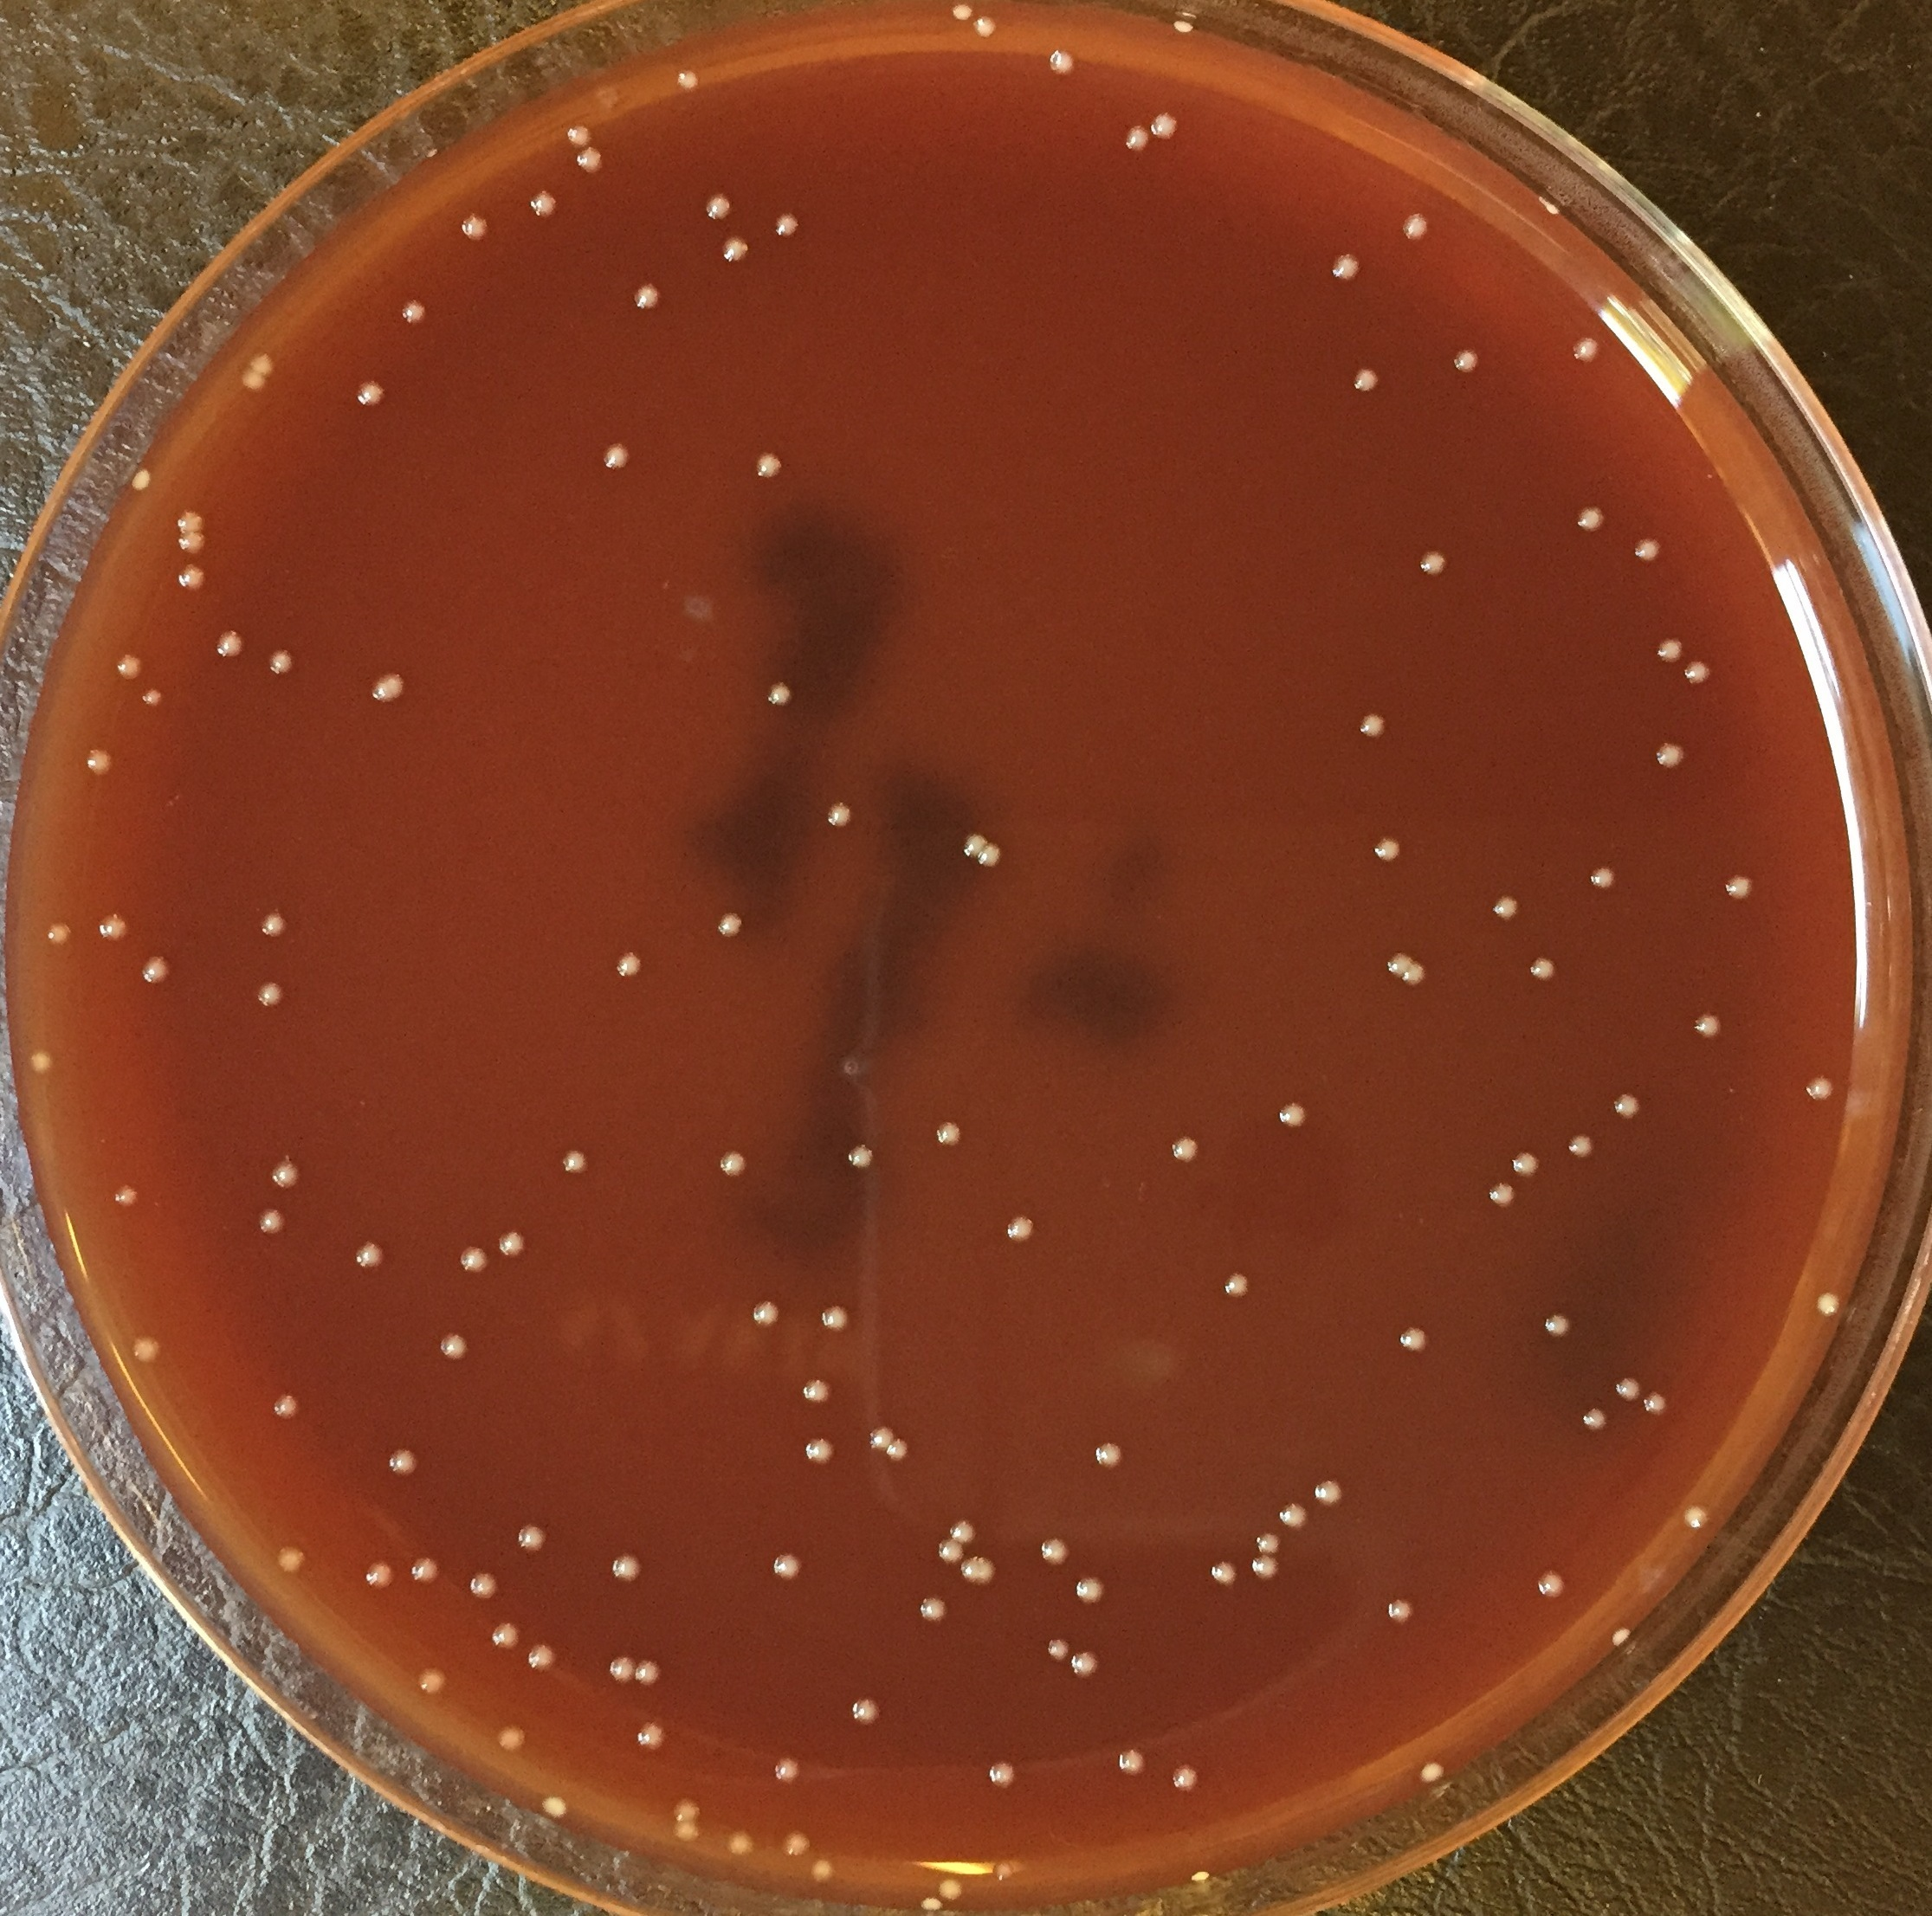sp06: (267, 1156, 307, 1198), (433, 1330, 477, 1369), (128, 1332, 170, 1370), (956, 1549, 998, 1588), (367, 667, 407, 705), (537, 1790, 576, 1828), (628, 1655, 665, 1695), (407, 1551, 444, 1588), (607, 1549, 644, 1586), (769, 1549, 805, 1586), (1651, 737, 1688, 774), (267, 646, 304, 683), (1393, 1323, 1432, 1358), (1414, 1760, 1456, 1791), (1611, 1090, 1648, 1125), (600, 439, 635, 475), (139, 953, 177, 986), (416, 1662, 451, 1697), (604, 1653, 639, 1688), (1067, 1648, 1102, 1683), (916, 1591, 951, 1626), (1483, 1177, 1518, 1212), (1565, 333, 1600, 368), (1678, 1498, 1714, 1532), (1525, 954, 1562, 988), (1330, 251, 1363, 288), (1348, 365, 1385, 398), (798, 1435, 835, 1469), (353, 1239, 388, 1272), (516, 1521, 549, 1556), (488, 1621, 523, 1655), (493, 1721, 528, 1755), (633, 1719, 667, 1755), (848, 1697, 883, 1730), (632, 281, 665, 316), (82, 747, 118, 781), (558, 1146, 591, 1181), (816, 1300, 851, 1333), (1091, 1441, 1127, 1474), (934, 1537, 970, 1569), (1167, 1763, 1204, 1795), (1274, 1098, 1311, 1130), (214, 628, 251, 660), (272, 1544, 305, 1577), (386, 1448, 419, 1481), (1248, 1551, 1281, 1584), (1576, 1404, 1609, 1437), (458, 211, 491, 244), (254, 1209, 290, 1240), (361, 1556, 397, 1588), (723, 1828, 758, 1860), (1207, 1556, 1242, 1588), (1535, 1567, 1567, 1602), (1574, 504, 1609, 535), (1046, 47, 1081, 79), (528, 189, 560, 225), (1074, 1577, 1111, 1607), (1539, 1311, 1576, 1340), (1681, 658, 1718, 688), (574, 140, 604, 177), (700, 191, 737, 221), (751, 451, 788, 481), (268, 1391, 302, 1423), (460, 1244, 493, 1276), (111, 1183, 144, 1214), (988, 1758, 1020, 1791), (1276, 1498, 1307, 1532), (1611, 1376, 1644, 1407), (1506, 1151, 1539, 1183), (1002, 1214, 1034, 1248), (467, 1572, 502, 1602), (781, 1830, 816, 1860), (1218, 1270, 1253, 1300), (1628, 535, 1664, 565), (398, 298, 433, 328), (354, 379, 390, 409), (844, 1142, 879, 1172), (800, 1377, 835, 1407), (525, 1642, 556, 1674), (1567, 1130, 1599, 1162), (1723, 870, 1755, 902), (823, 798, 855, 830), (497, 1228, 530, 1258), (770, 1755, 804, 1784), (1116, 1748, 1146, 1781), (1169, 1135, 1202, 1165), (1358, 709, 1388, 742), (809, 1855, 837, 1890), (1486, 893, 1521, 921), (883, 1433, 918, 1462), (1039, 1537, 1070, 1567), (1383, 1597, 1414, 1626), (1399, 958, 1430, 988), (1692, 1011, 1721, 1042), (258, 909, 290, 939), (254, 981, 286, 1011), (753, 1297, 783, 1328), (612, 949, 644, 979), (1311, 1477, 1344, 1505), (1414, 549, 1448, 577), (97, 914, 130, 942), (932, 1119, 965, 1147), (1449, 346, 1479, 375), (716, 1149, 746, 1179), (974, 842, 1004, 872), (669, 1795, 700, 1823), (1253, 1532, 1284, 1560), (1802, 1070, 1830, 1102), (174, 563, 205, 591), (714, 912, 746, 940), (1148, 114, 1181, 140), (175, 530, 209, 556), (1588, 863, 1618, 891), (1655, 637, 1683, 667), (770, 212, 800, 240), (674, 68, 704, 97), (721, 235, 749, 265), (1402, 214, 1428, 246), (1372, 835, 1400, 863), (1170, 12, 1199, 40), (865, 1425, 893, 1453), (960, 830, 988, 858), (1121, 125, 1151, 151), (114, 651, 144, 677), (948, 1519, 979, 1544), (44, 921, 75, 946), (937, 1877, 965, 1904), (1385, 953, 1413, 979), (563, 121, 591, 147), (969, 12, 998, 37), (237, 368, 267, 393), (765, 683, 795, 707), (674, 1816, 700, 1842), (126, 468, 153, 495), (251, 353, 277, 379), (1609, 1623, 1637, 1648), (172, 511, 207, 530), (1042, 1635, 1069, 1660), (28, 1051, 54, 1076), (1642, 1386, 1667, 1411), (137, 686, 163, 709), (1532, 197, 1560, 218), (990, 1858, 1014, 1881), (1814, 1291, 1839, 1314), (919, 1895, 946, 1916), (1188, 1867, 1213, 1886)
